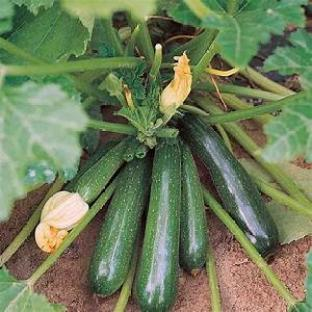Zucchini: (179, 114, 278, 255), (89, 158, 150, 296), (136, 143, 180, 310), (180, 142, 206, 274), (73, 141, 125, 202), (66, 141, 117, 191)
